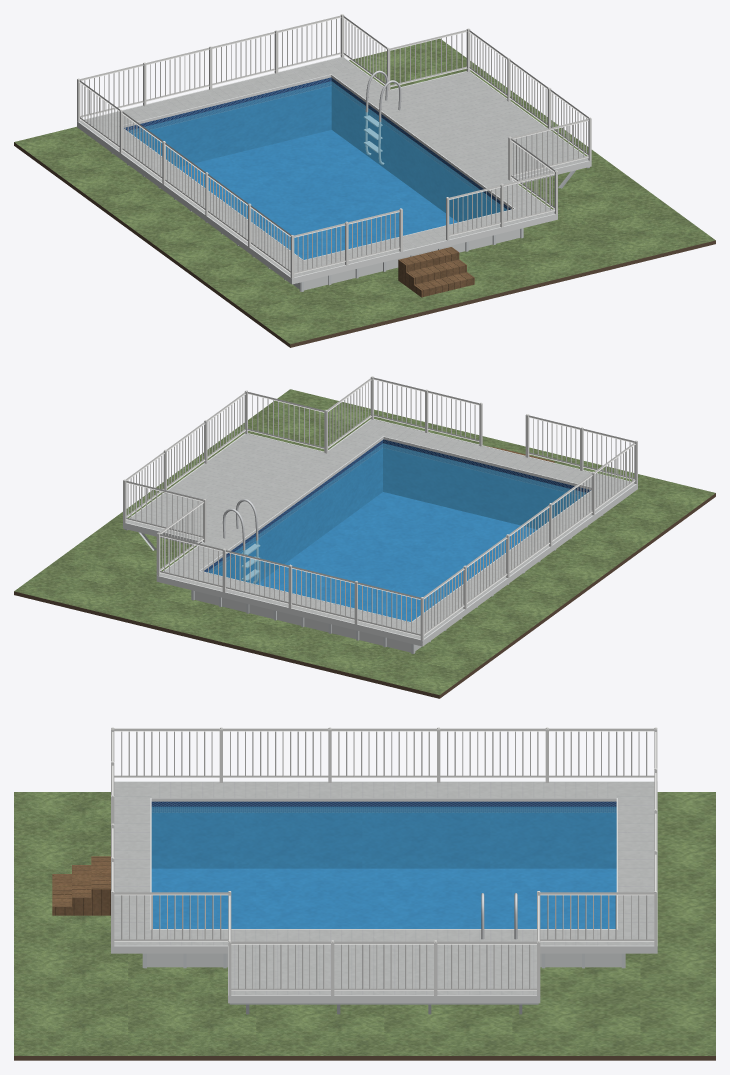
File: kayak-pool-16x24-white-t-rec-fence.9e99647fef.glb
3 views of the same model, one above another, from view 1: azimuth 30°, elevation 25°; view 2: azimuth 150°, elevation 25°; view 3: azimuth 270°, elevation 25° (orthographic). The views are drawn at different scales.
Parts seen in each view (by area): view 1: ground, water, deck, fence, liner_floor, liner_wall, fascia, soil, steps, wall, steel; view 2: ground, water, deck, fence, liner_floor, liner_wall, fascia, soil, wall, steel; view 3: ground, water, deck, liner_wall, liner_floor, fence, fascia, soil, steps, wall, stud.
Part boxes in pixels (x1,y1,x2,y2): ground: (14,38,715,344); water: (128,81,506,259); deck: (80,57,588,277); fence: (77,14,591,278); liner_floor: (178,130,457,259); liner_wall: (123,77,511,221); fascia: (77,57,591,284); soil: (14,142,715,347); steps: (398,247,474,297); wall: (293,229,520,290); steel: (364,70,401,164); ground: (14,389,715,694); water: (207,443,585,621); deck: (126,419,634,642); fence: (123,376,637,646); liner_floor: (257,492,536,621); liner_wall: (204,439,591,584); fascia: (123,419,637,646); soil: (14,493,715,698); wall: (194,591,421,652); steel: (222,499,260,583); ground: (14,792,715,1055); water: (151,806,616,928); deck: (114,782,654,994); liner_wall: (151,801,616,868); liner_floor: (151,868,616,928); fence: (111,727,657,995); fascia: (111,781,657,1003); soil: (14,1056,715,1060); steps: (52,856,110,915); wall: (147,953,621,967); stud: (229,1003,538,1014).
Bounding box in the file's own units: 9.75 × 2.15 × 10.97.
Materials: 13 (5 with a texture image).
